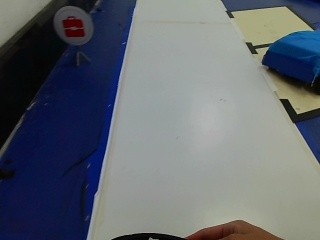company: (52, 8, 96, 46)
